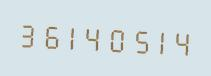five: (127, 21, 148, 58)
four: (83, 18, 104, 55), (171, 23, 192, 60)
one: (61, 17, 82, 54), (149, 22, 170, 59)
six: (39, 16, 60, 53)
three: (17, 15, 38, 52)
zero: (105, 20, 126, 57)
